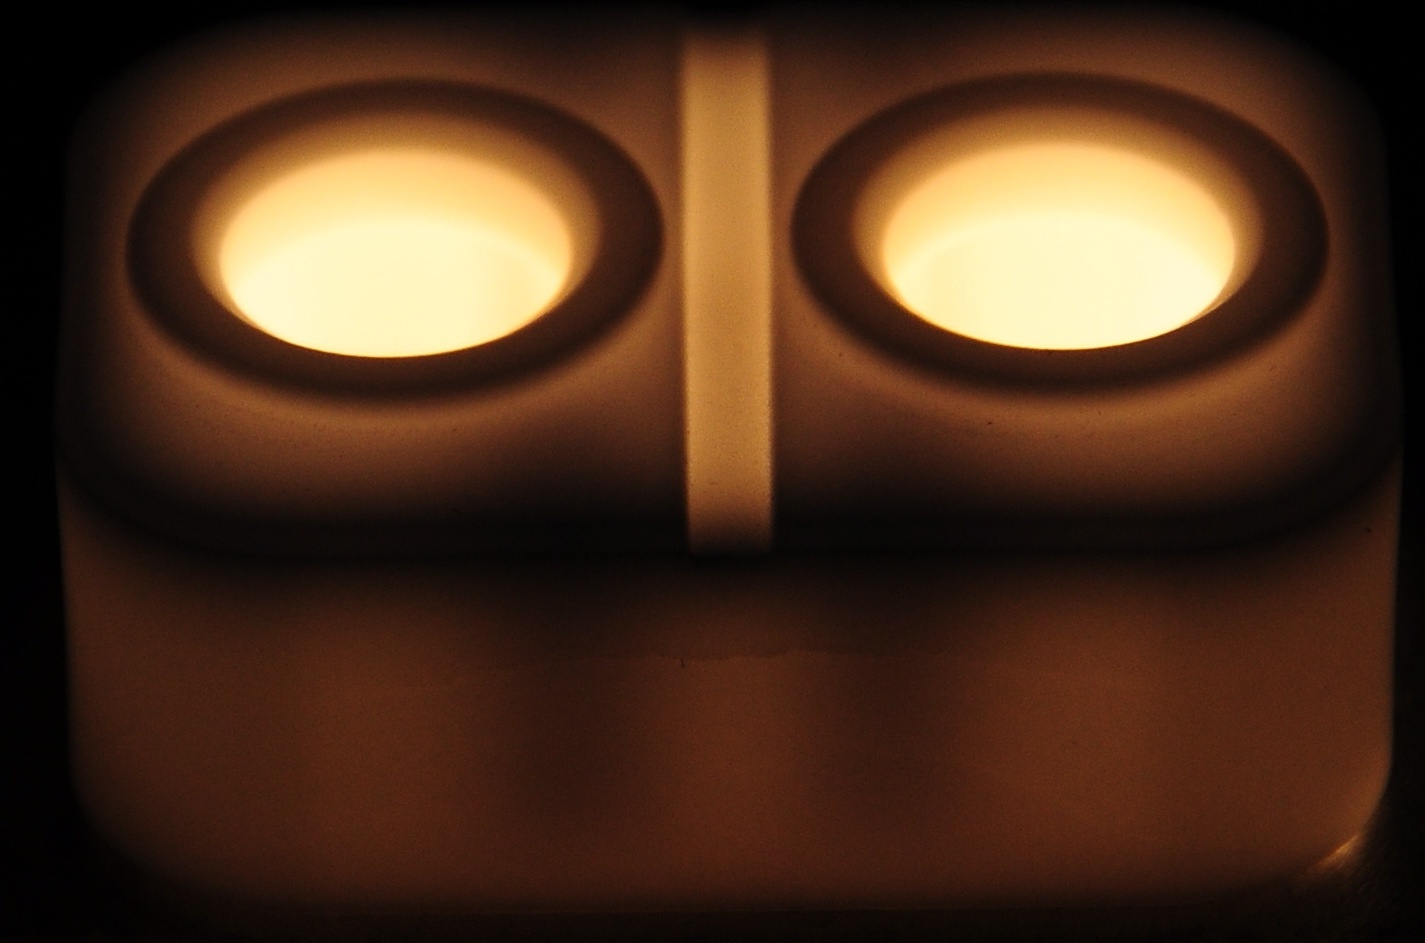flaw: (339, 602, 1204, 711)
